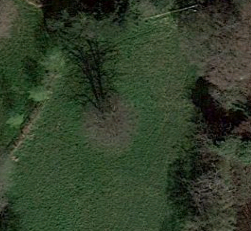tree: (67, 91, 151, 159)
